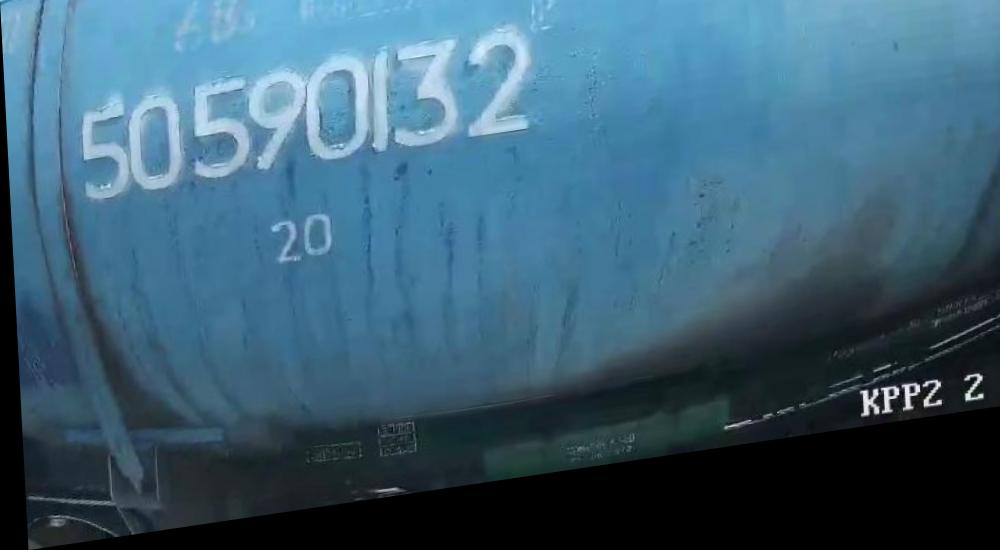Wagon-number: (69, 37, 542, 210)
